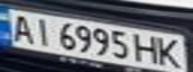5: (109, 28, 133, 61)
6: (54, 20, 78, 51)
9: (90, 25, 112, 57), (72, 24, 93, 54)
A: (6, 11, 36, 44)
H: (133, 33, 163, 65)
I: (30, 16, 57, 47)
K: (154, 35, 187, 70)
